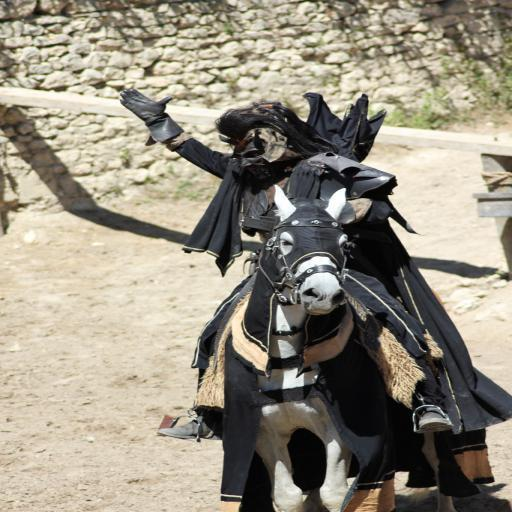horse: (250, 183, 512, 511)
